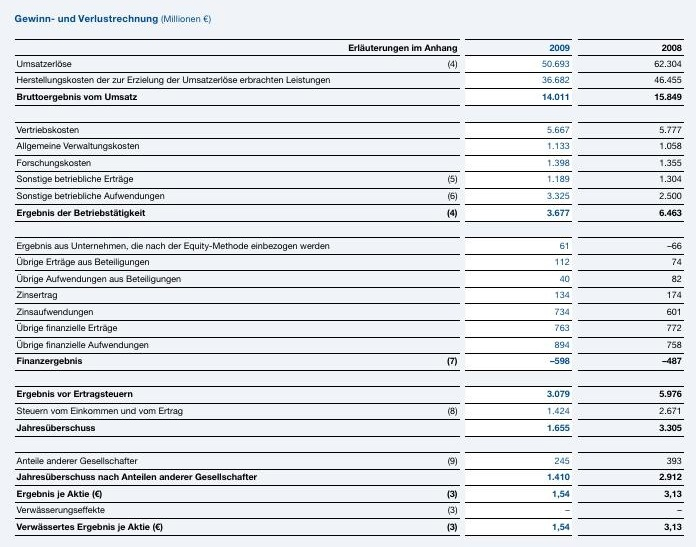table: (0, 0, 696, 547)
